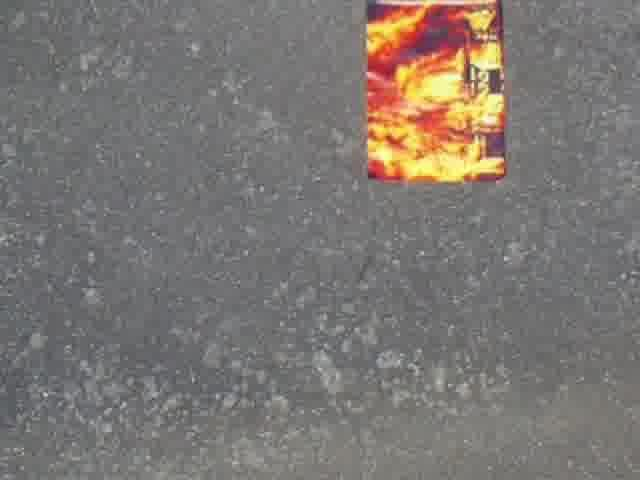fire-poster: (364, 0, 506, 182)
